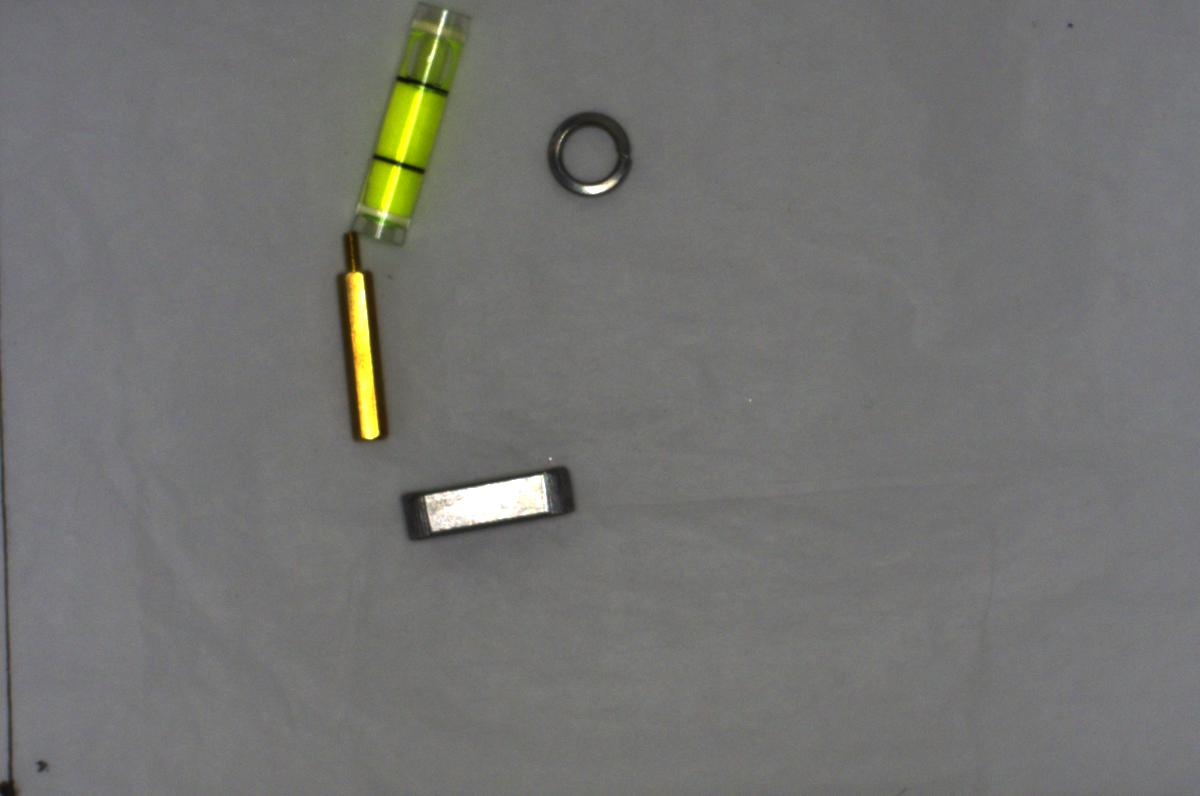Hexagon pillar: (327, 225, 393, 447)
Horizontal bubble: (351, 3, 464, 248)
Keybar: (391, 453, 577, 550)
Spring washer: (542, 103, 635, 190)
